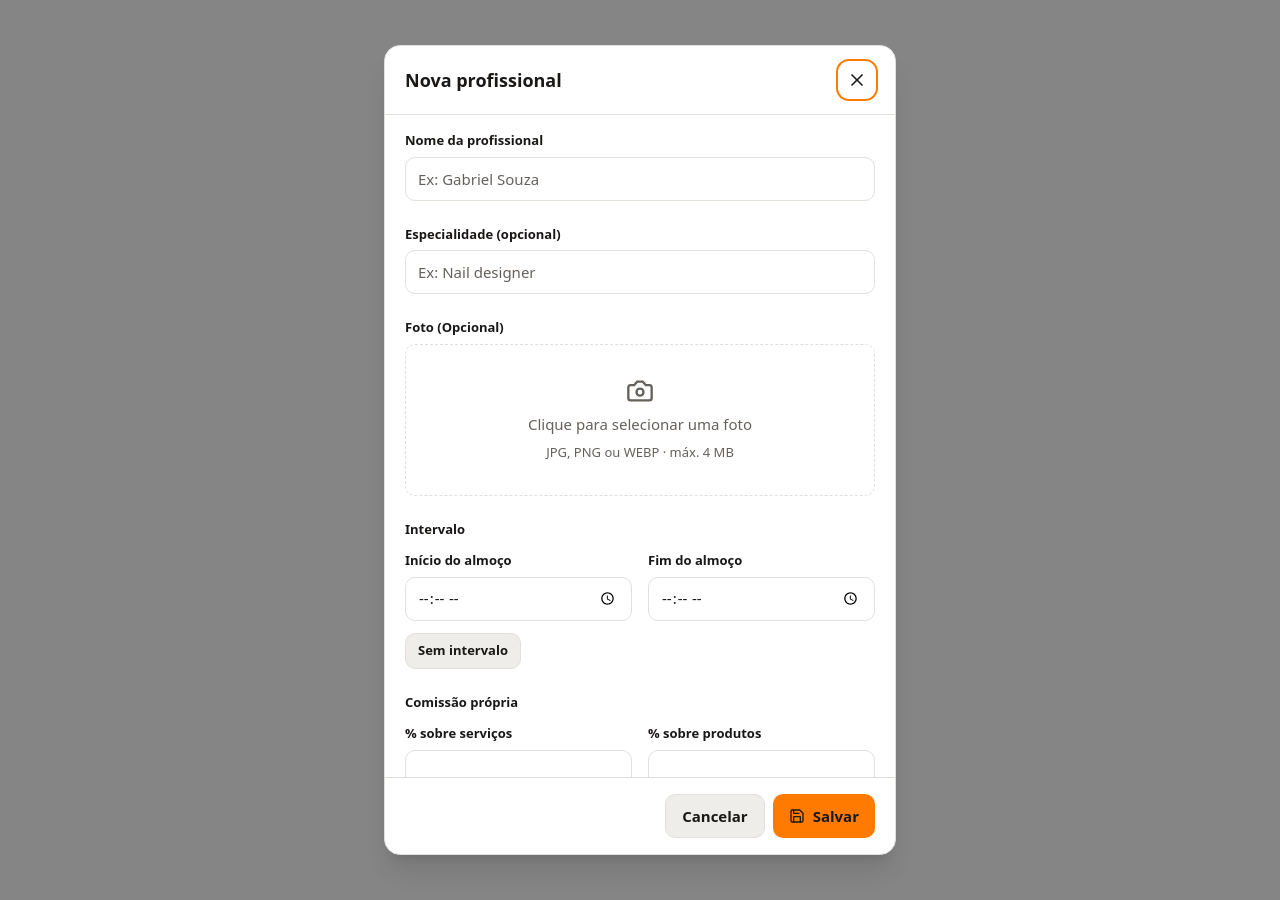
Test: ServiceProfessionalModal (profissional) › bloqueia intervalo pela metade
Type "Camila" into the field labelled "Nome da profissional" at (640, 178), box [405,156,875,200]
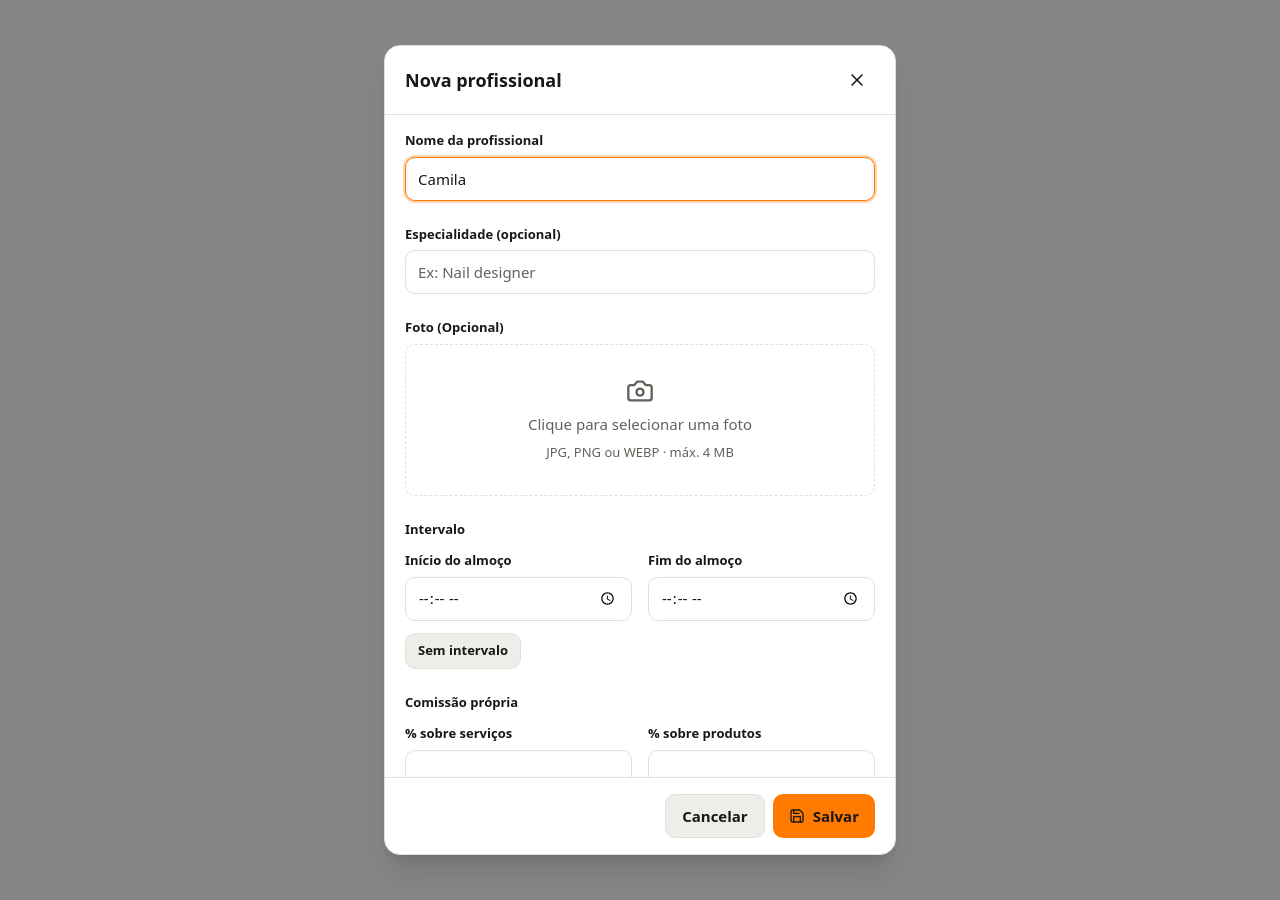
Type "12:00" into the time field labelled "Início do almoço" at (518, 598), box [405,576,632,620]
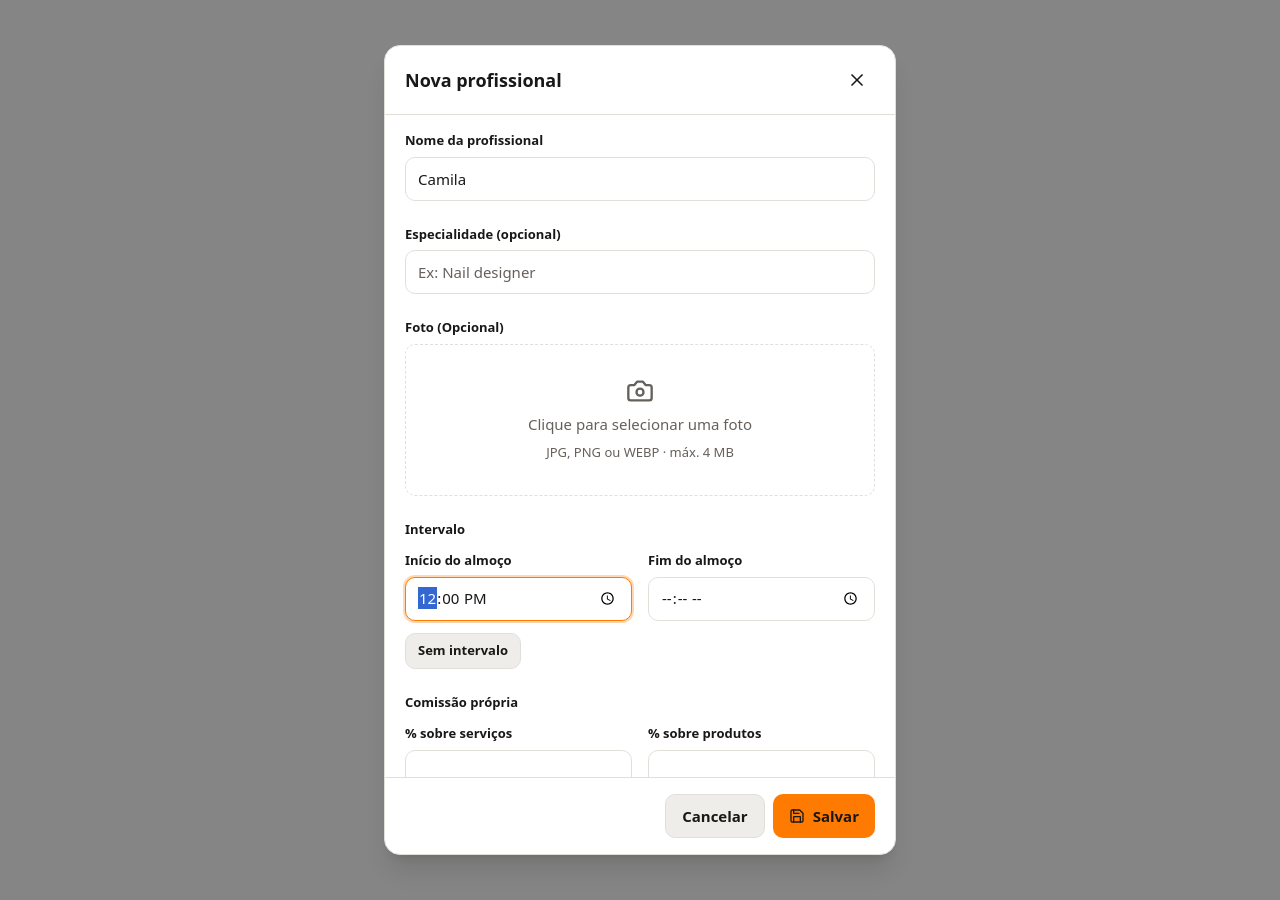
Click the button "Salvar" at (824, 816), box [773,794,875,838]
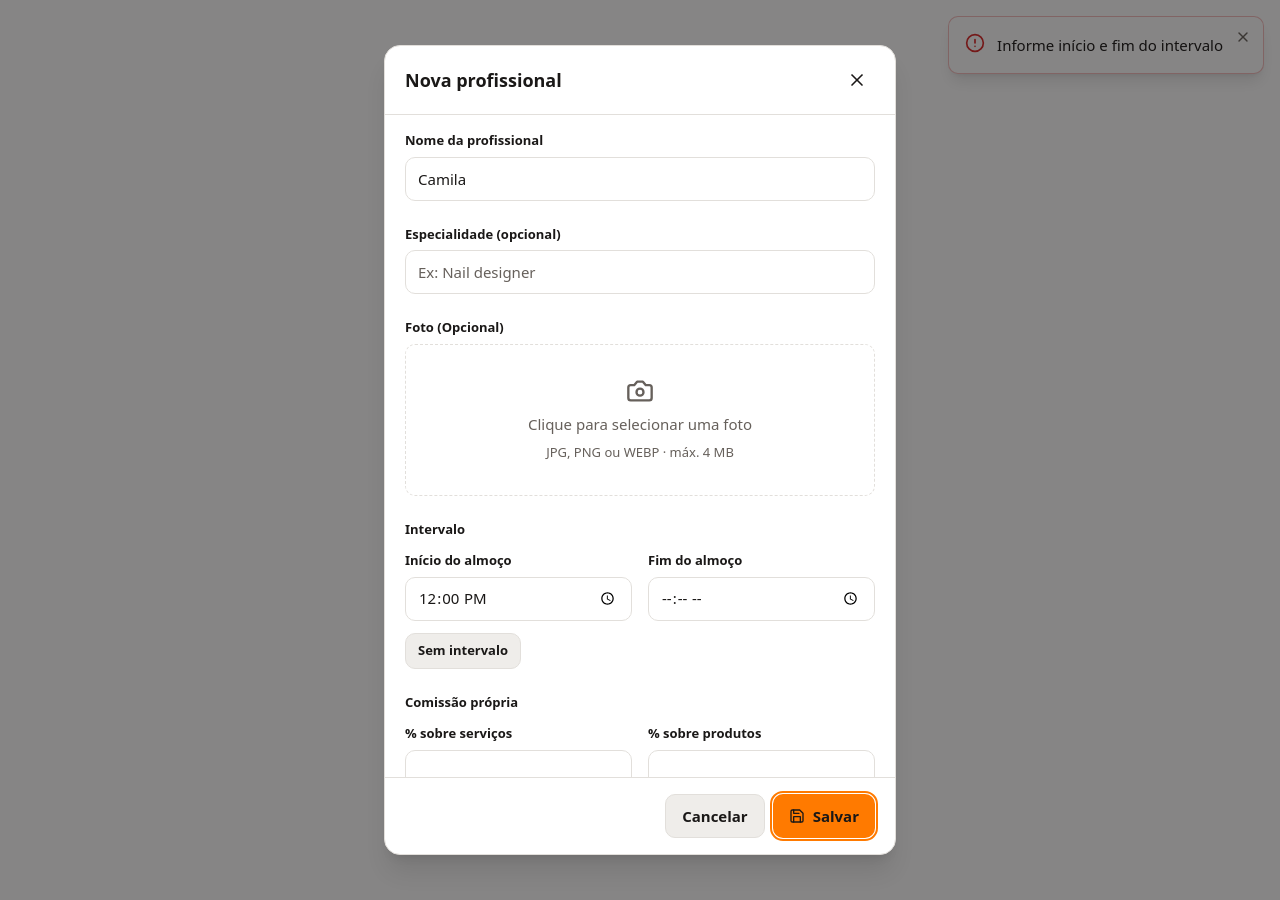
Now the text "Informe início e fim do intervalo" is shown, box [997,33,1223,57]
